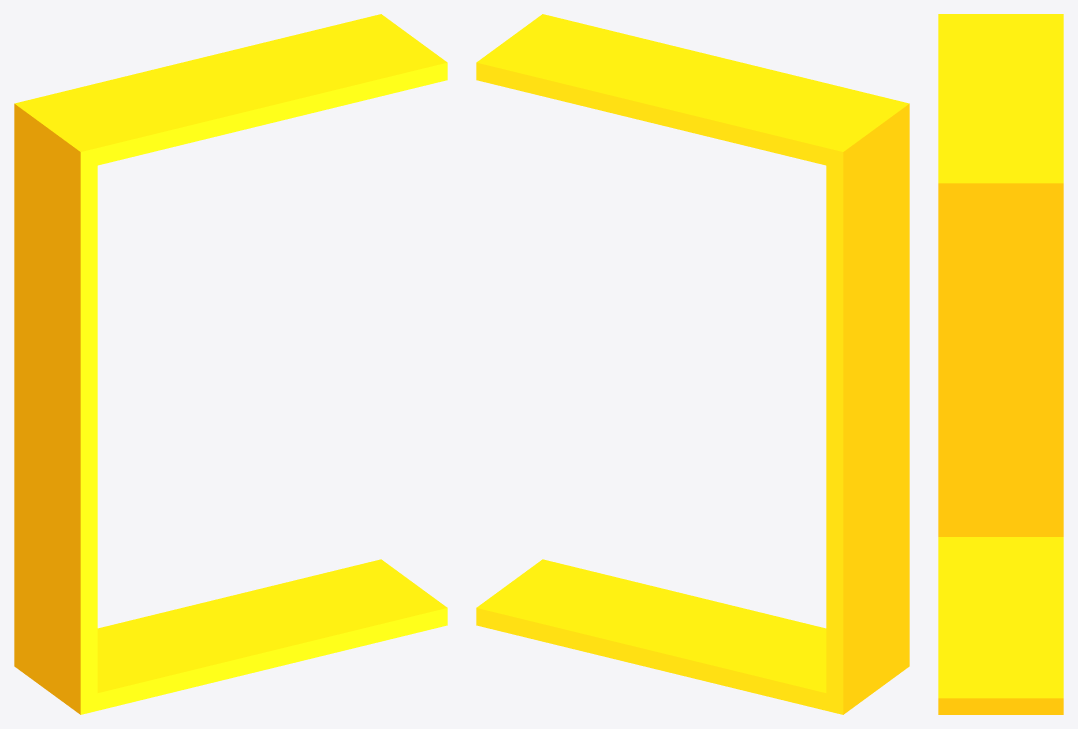
The model's file is 08c50afe-e2ba-479e-ba43-3928e47533df.glb.
3 renders of one model, left to right at view 1: azimuth 30°, elevation 25°; view 2: azimuth 150°, elevation 25°; view 3: azimuth 270°, elevation 25°, orthographic. The views are drawn at different scales.
Visible parts, largest first — view 1: c_AlphaProta_Yellow; view 2: c_AlphaProta_Yellow; view 3: c_AlphaProta_Yellow.
Boxes of the visible parts, box(x1,y1,x2,y2) form: c_AlphaProta_Yellow: box(14, 14, 447, 714); c_AlphaProta_Yellow: box(476, 14, 909, 714); c_AlphaProta_Yellow: box(938, 14, 1063, 714).
Size of what is drawn, in the model's own units: 0.1436 by 0.2105 by 0.045.
Materials: 2 (2 with a texture image).
